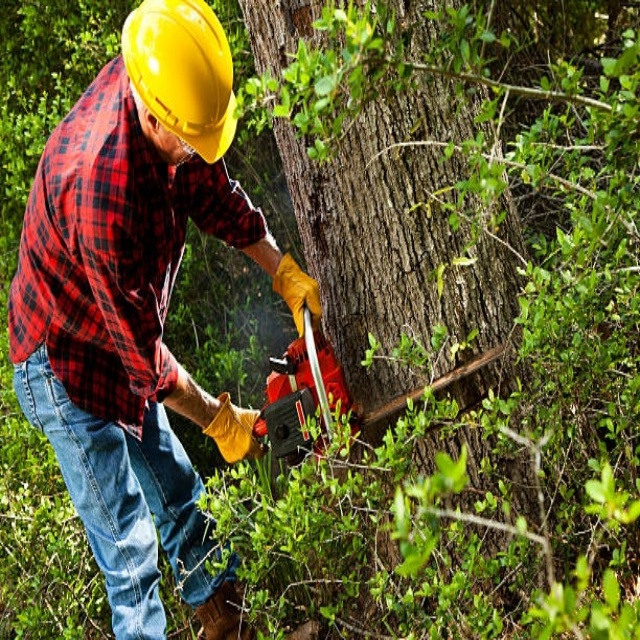Guantes: (200, 392, 266, 466), (271, 252, 321, 337)
